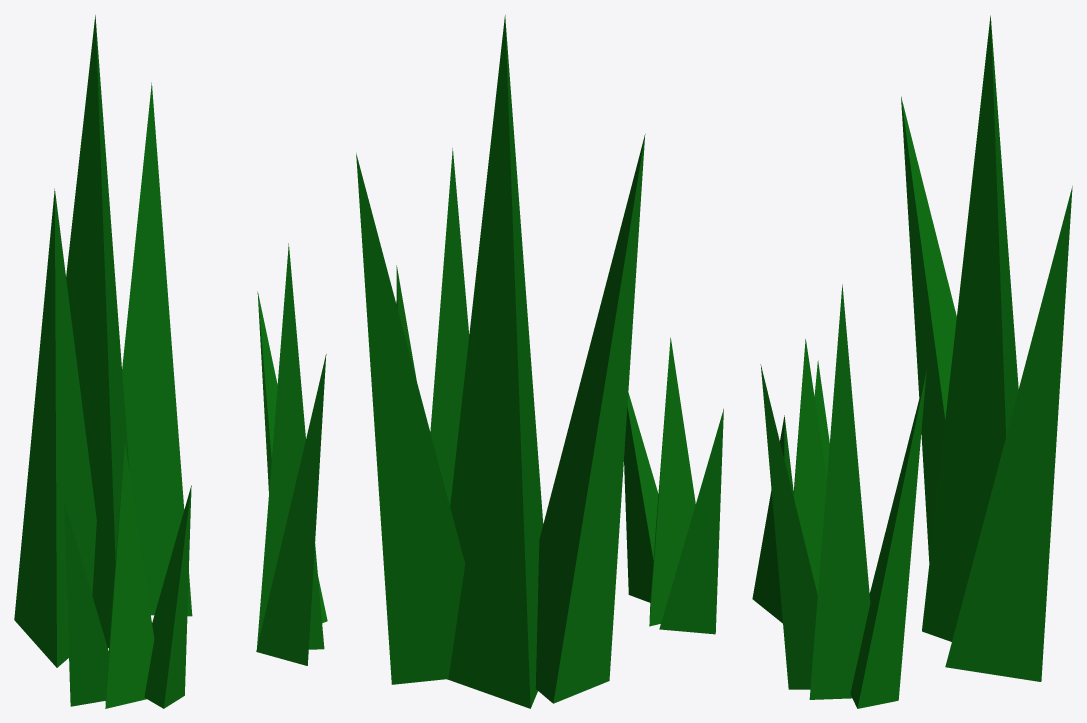
The model's file is grass.fbx.
The picture shows the model from 3 angles, left to right: view 1: azimuth 30°, elevation 25°; view 2: azimuth 150°, elevation 25°; view 3: azimuth 270°, elevation 25°; orthographic projection. The views are drawn at different scales.
Visible parts, largest first — view 1: TerrainCube.001; view 2: TerrainCube.001; view 3: TerrainCube.001.
Boxes of the visible parts, box(x1,y1,x2,y2) form: TerrainCube.001: box(14, 15, 327, 708); TerrainCube.001: box(356, 15, 723, 708); TerrainCube.001: box(752, 15, 1072, 708).
Size of the model in its own units: 54.75 by 114 by 52.59.
